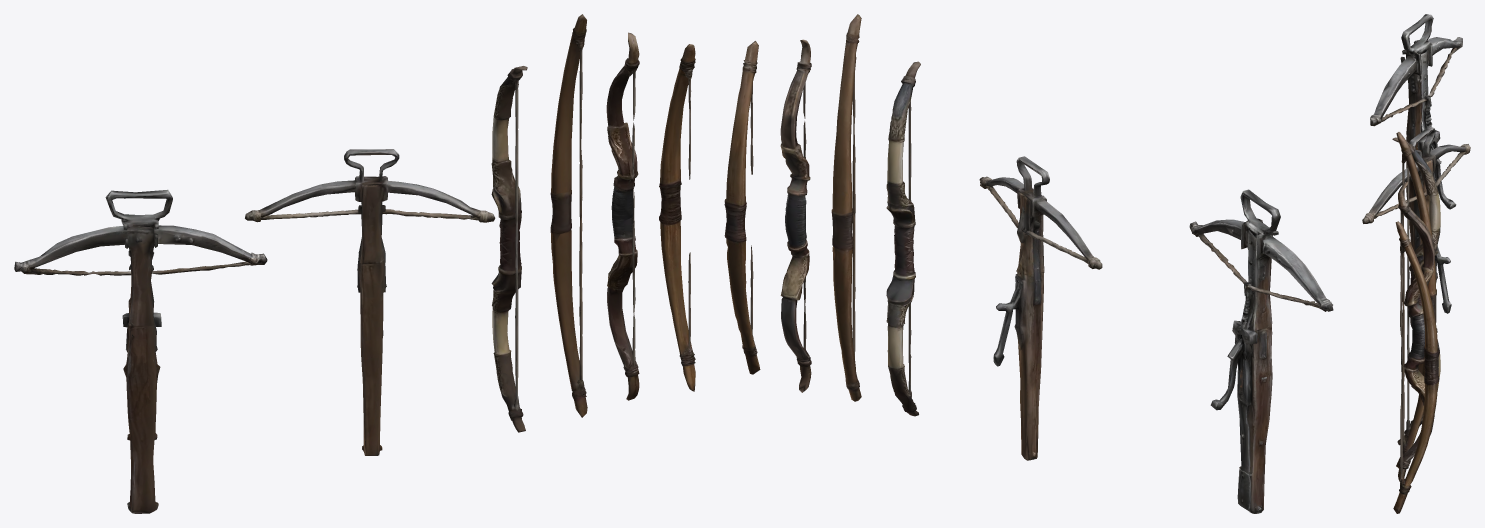
The model's file is weapons_bows.glb.
The picture shows the model from 3 angles, left to right: view 1: azimuth 30°, elevation 25°; view 2: azimuth 150°, elevation 25°; view 3: azimuth 270°, elevation 25°; orthographic projection. The views are drawn at different scales.
Parts seen in each view (by area): view 1: crossbow_heavy, crossbow_light, bow_longbow, bow_composite, bow_persian, bow_short; view 2: crossbow_heavy, crossbow_light, bow_longbow, bow_composite, bow_persian, bow_short; view 3: crossbow_heavy, bow_short, bow_persian, crossbow_light, bow_longbow, bow_composite.
Boxes of the visible parts, x1=… form: crossbow_heavy: x1=14, y1=189, x2=267, y2=513; crossbow_light: x1=245, y1=149, x2=495, y2=455; bow_longbow: x1=550, y1=14, x2=587, y2=417; bow_composite: x1=491, y1=66, x2=527, y2=432; bow_persian: x1=606, y1=32, x2=639, y2=400; bow_short: x1=659, y1=44, x2=695, y2=391; crossbow_heavy: x1=1189, y1=189, x2=1333, y2=513; crossbow_light: x1=979, y1=156, x2=1102, y2=460; bow_longbow: x1=831, y1=14, x2=861, y2=401; bow_composite: x1=886, y1=61, x2=920, y2=416; bow_persian: x1=780, y1=39, x2=811, y2=392; bow_short: x1=724, y1=41, x2=760, y2=374; crossbow_heavy: x1=1370, y1=14, x2=1462, y2=249; bow_short: x1=1393, y1=221, x2=1439, y2=513; bow_persian: x1=1398, y1=182, x2=1434, y2=481; crossbow_light: x1=1362, y1=126, x2=1470, y2=373; bow_longbow: x1=1396, y1=132, x2=1436, y2=468; bow_composite: x1=1392, y1=137, x2=1440, y2=445.
Bounding box in the file's own units: 1.12 × 0.6671 × 0.1944.
1 material, 1 textured.
